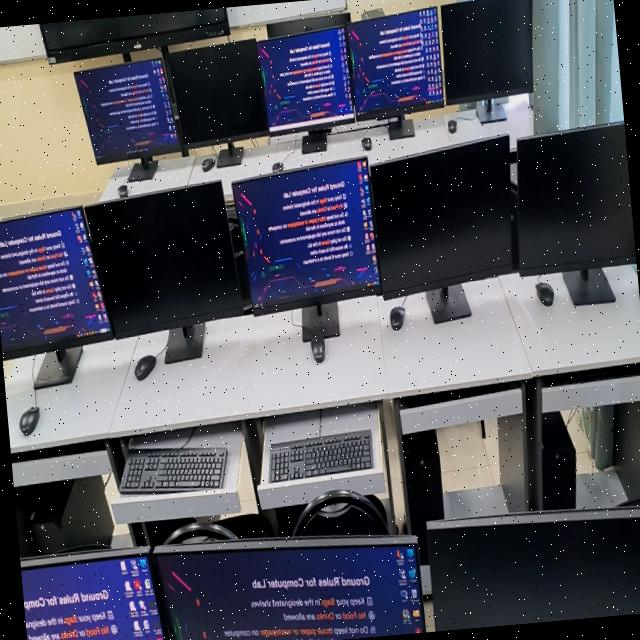Chair: (292, 489, 389, 534), (163, 521, 238, 543)
Cpu: (26, 475, 113, 555), (402, 430, 444, 564), (543, 412, 576, 509)
Digital board: (39, 7, 230, 63)
Keyboard: (269, 429, 373, 481), (120, 447, 227, 493)
Monitor: (156, 537, 424, 640), (426, 506, 640, 631), (85, 180, 246, 338), (370, 135, 517, 298), (232, 156, 379, 312), (517, 121, 636, 303), (0, 207, 110, 354), (21, 553, 165, 640), (164, 38, 269, 149), (74, 57, 180, 163), (346, 6, 444, 119), (257, 26, 355, 135), (441, 0, 532, 103), (266, 11, 350, 37)
Mouse: (19, 406, 39, 436), (134, 355, 156, 380), (535, 278, 553, 306), (310, 335, 325, 362), (390, 305, 404, 329), (201, 157, 215, 171), (117, 183, 128, 197), (448, 119, 456, 132), (272, 162, 283, 171), (366, 136, 372, 143)
